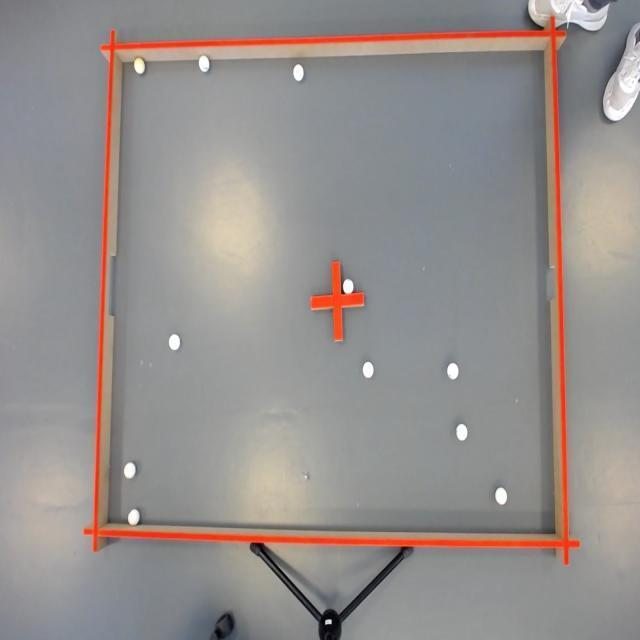white-golf-balls: (447, 363, 459, 380), (495, 488, 507, 504), (128, 509, 139, 525), (362, 362, 373, 378), (457, 424, 467, 441), (169, 335, 180, 350), (124, 463, 135, 478), (343, 279, 354, 294), (135, 58, 145, 74), (293, 65, 303, 81), (199, 56, 209, 71)
